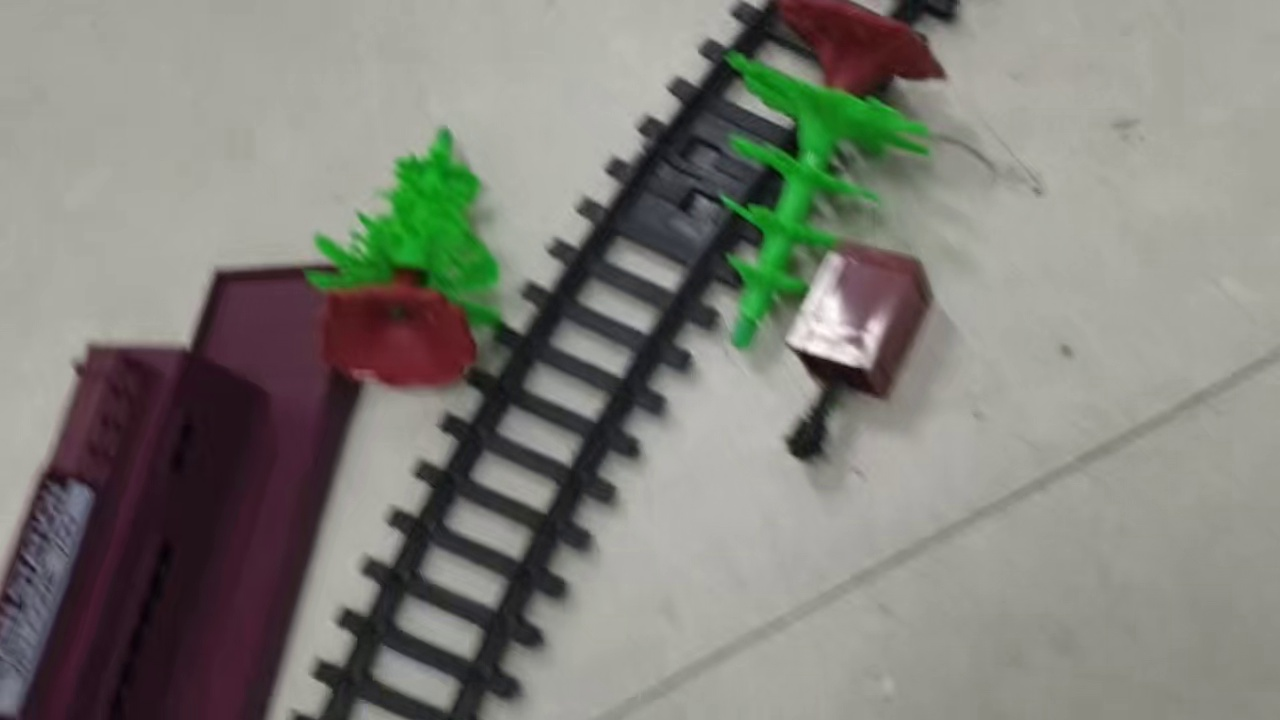box: (779, 239, 939, 403)
tree: (713, 1, 950, 348), (300, 124, 503, 392)
